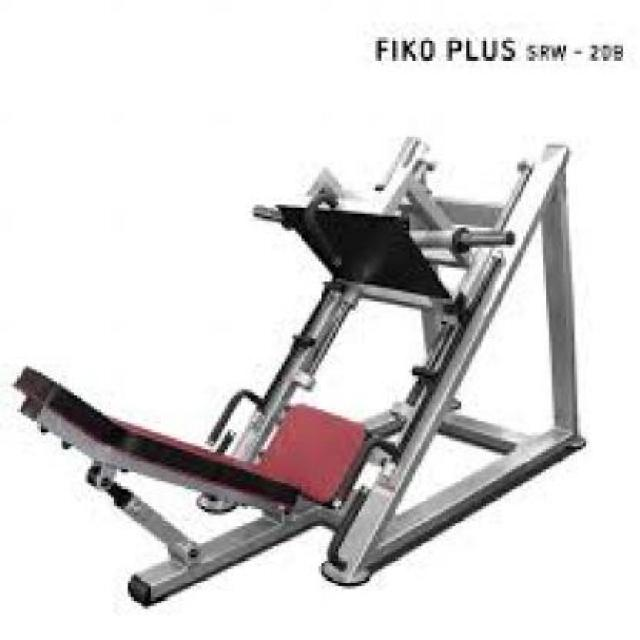leg press: (2, 102, 624, 623)
